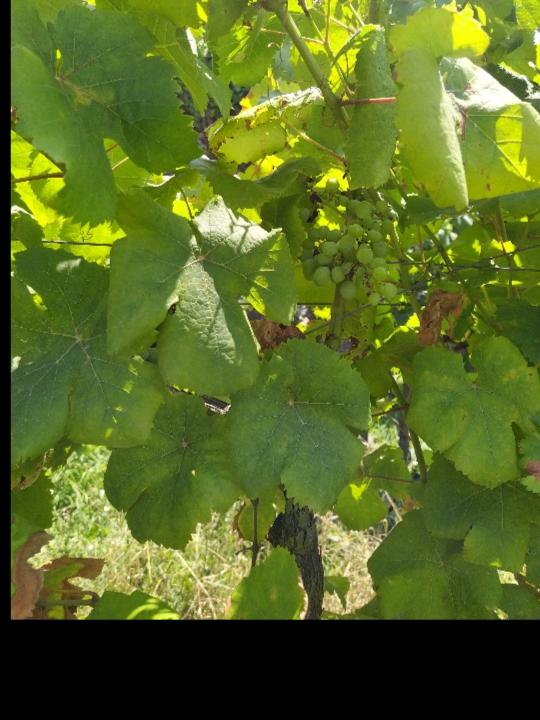grape: (298, 175, 401, 308)
